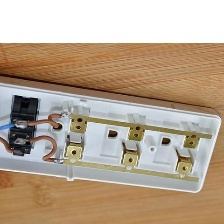three_eye_plug: (0, 70, 223, 196)
